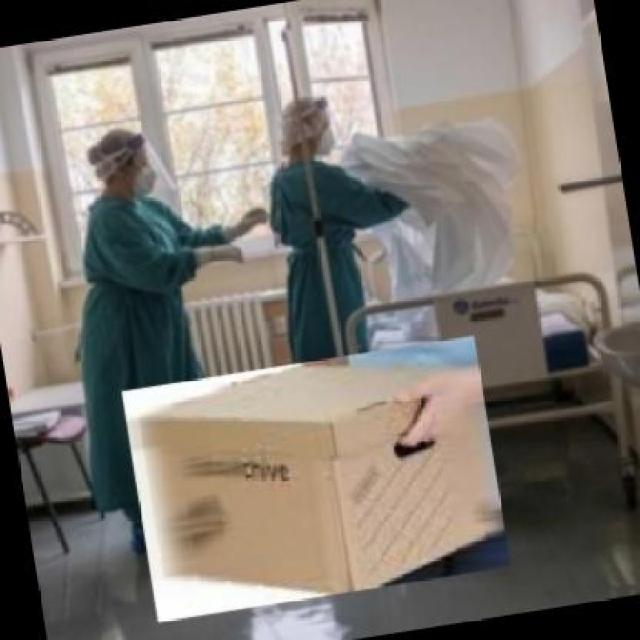box: (115, 331, 517, 626)
